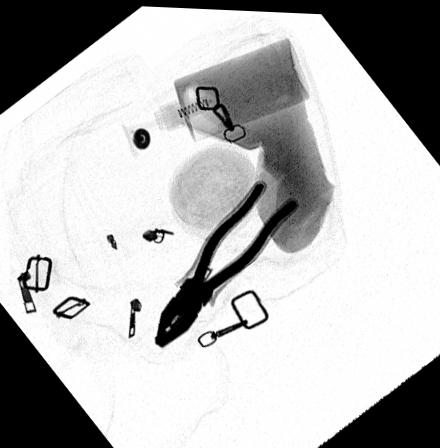Pliers: (155, 175, 303, 347)
